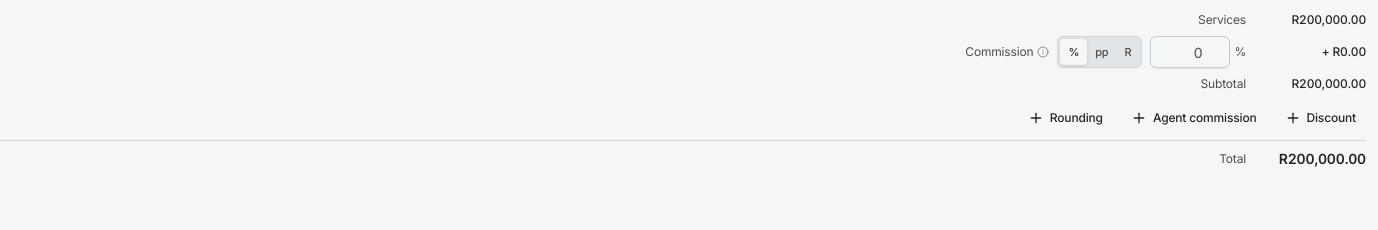
Test: QuoteAdjustmentsLedger › counts a typed commission straight away, without touching the type toggle
Type "10" into the number field with placeholder "0". click: (1190, 52)
box: [1150,36,1230,68]
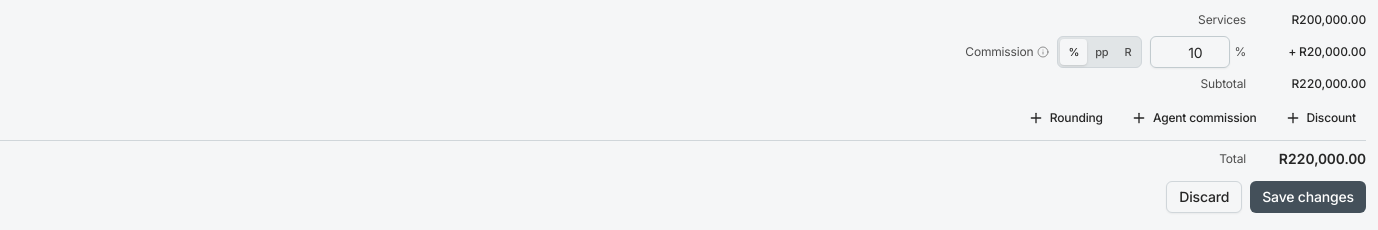
Expected: the button "Save changes" is shown, [1250,181,1366,213]
